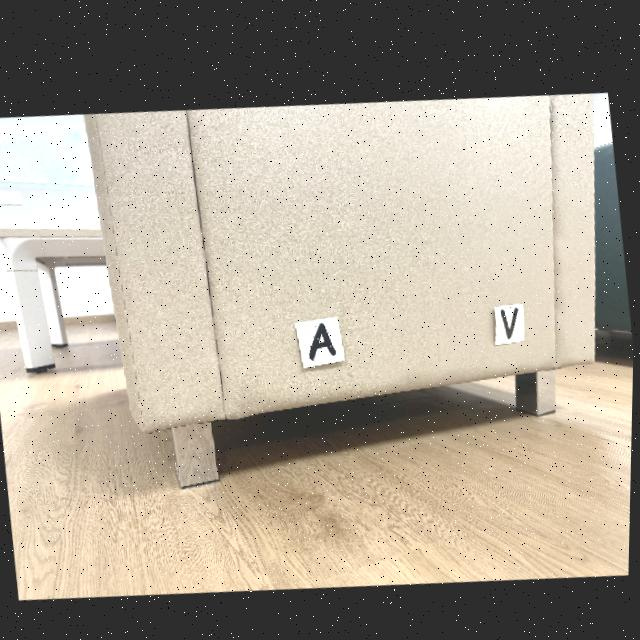A: (310, 317, 338, 354)
V: (502, 297, 519, 330)
